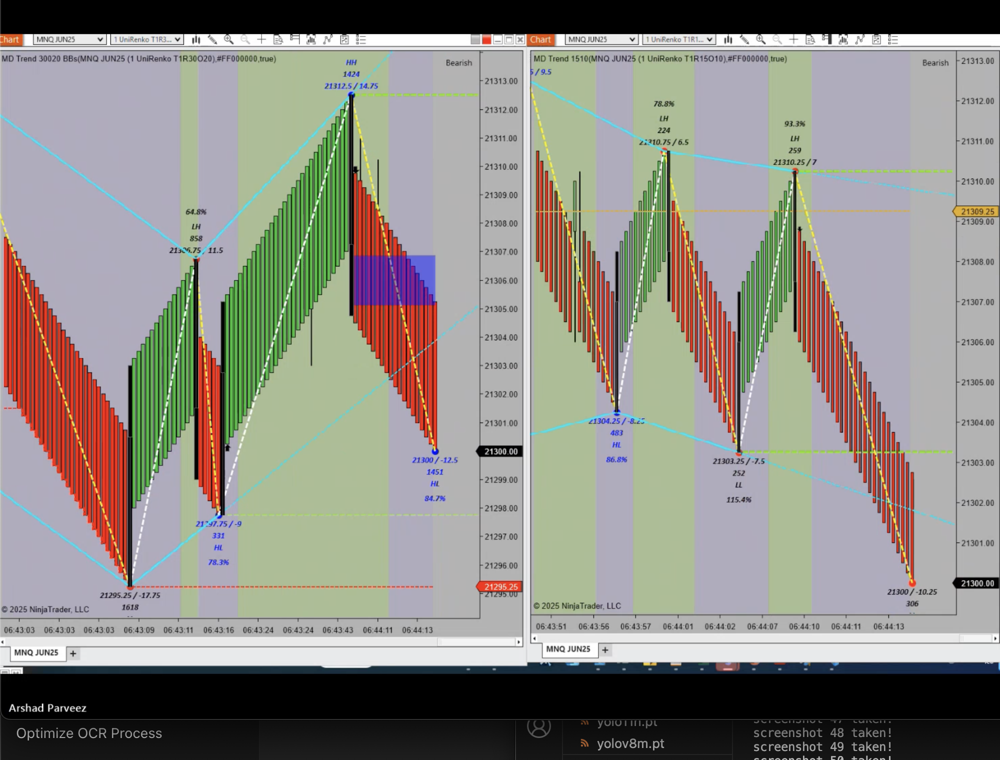HH: (341, 53, 368, 69)
HL: (207, 539, 229, 558), (422, 476, 447, 491), (607, 438, 628, 453)
LH: (182, 216, 206, 235), (786, 130, 810, 147), (650, 116, 676, 127)
LL: (727, 476, 749, 492)
